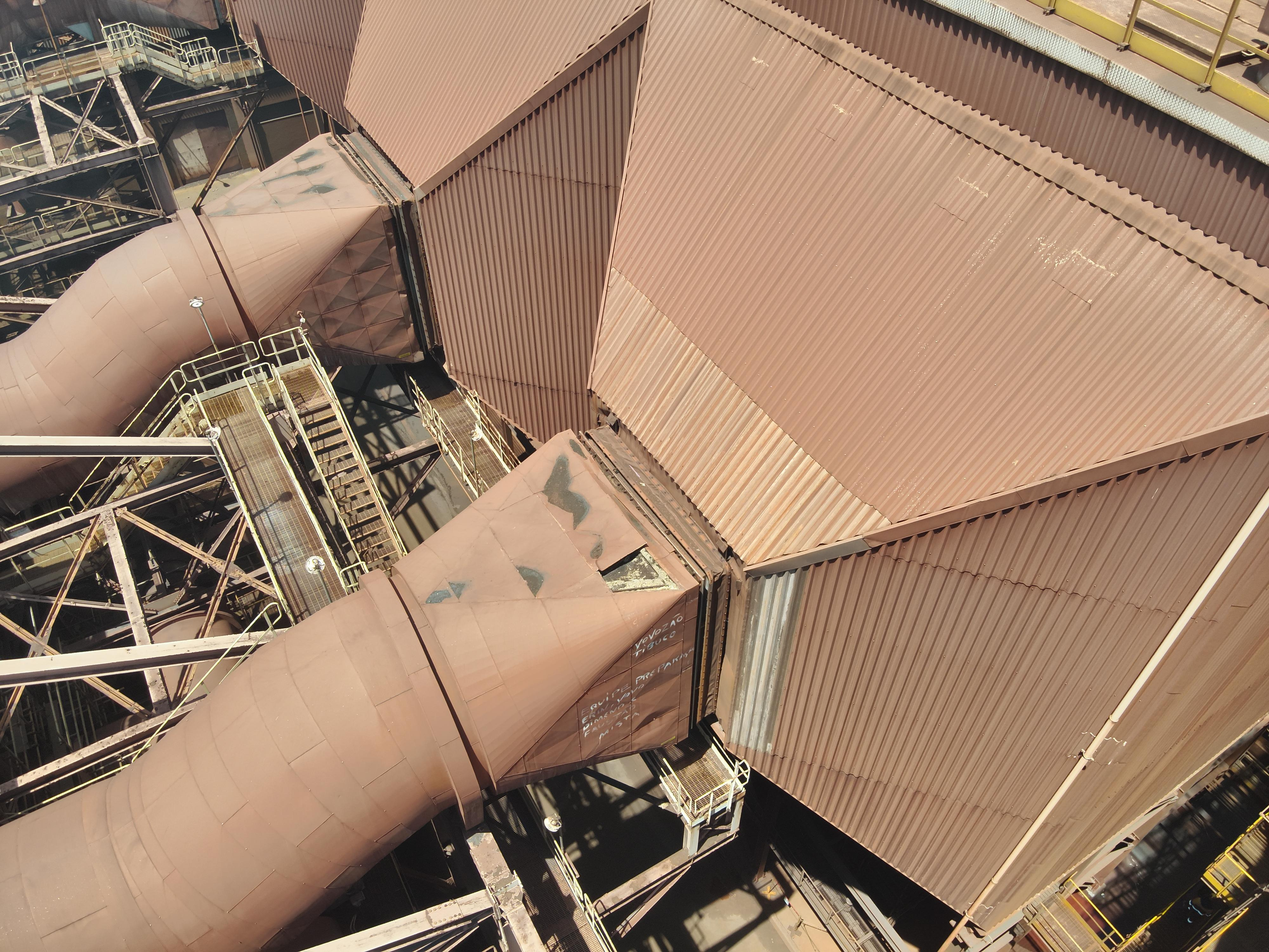Failures: (597, 538, 683, 598)
